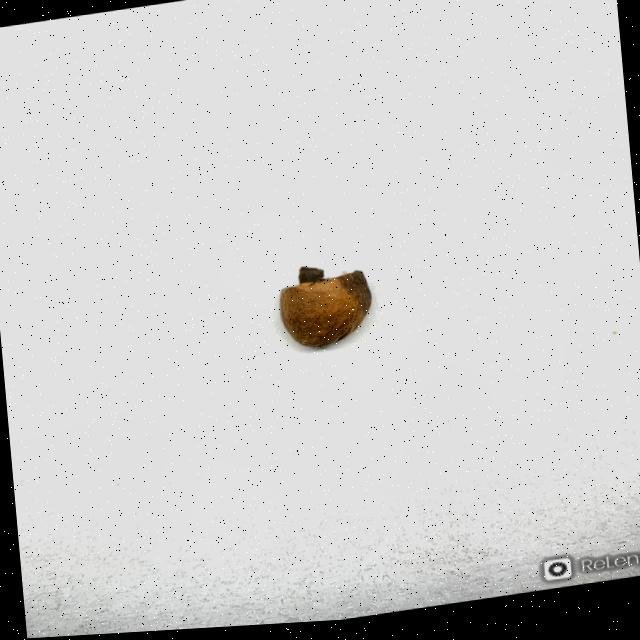Insect damage: (274, 260, 376, 357)
